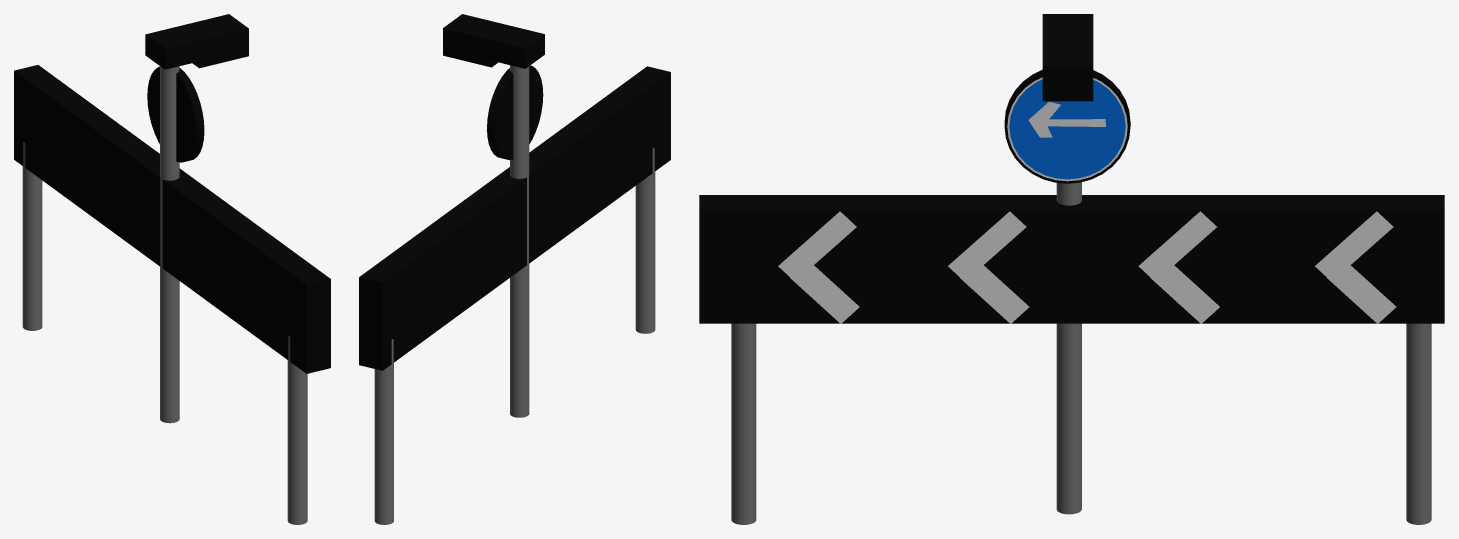
Rendered from go_left_chevron.fbx.
3 renders of one model, left to right at view 1: azimuth 30°, elevation 25°; view 2: azimuth 150°, elevation 25°; view 3: azimuth 270°, elevation 25°, orthographic. The views are drawn at different scales.
Parts seen in each view (by area): view 1: Cube, Cylinder, Cube.001, Cylinder.001, Cylinder.002, Circle; view 2: Cube, Cylinder, Cube.001, Cylinder.001, Cylinder.002, Circle; view 3: Cube, Circle, Cylinder, Cylinder.001, Cylinder.002, Cube.001, Plane, Plane.004, Plane.002, Plane.006, Plane.003, Plane.007 (+2 smaller).
Boxes of the visible parts, x1=… form: Cube: x1=14, y1=65, x2=330, y2=373; Cylinder: x1=160, y1=66, x2=179, y2=423; Cube.001: x1=145, y1=14, x2=248, y2=69; Cylinder.001: x1=287, y1=336, x2=307, y2=524; Cylinder.002: x1=22, y1=142, x2=42, y2=330; Circle: x1=147, y1=66, x2=204, y2=162; Cube: x1=359, y1=66, x2=670, y2=370; Cylinder: x1=510, y1=65, x2=529, y2=417; Cube.001: x1=443, y1=14, x2=544, y2=68; Cylinder.001: x1=635, y1=147, x2=655, y2=333; Cylinder.002: x1=374, y1=339, x2=393, y2=524; Circle: x1=487, y1=65, x2=543, y2=160; Cube: x1=699, y1=195, x2=1444, y2=323; Circle: x1=1004, y1=69, x2=1130, y2=183; Cylinder: x1=1056, y1=182, x2=1081, y2=514; Cylinder.001: x1=731, y1=323, x2=756, y2=524; Cylinder.002: x1=1406, y1=323, x2=1431, y2=524; Cube.001: x1=1042, y1=14, x2=1093, y2=101; Plane: x1=778, y1=211, x2=856, y2=281; Plane.004: x1=1138, y1=211, x2=1216, y2=281; Plane.002: x1=959, y1=260, x2=1029, y2=323; Plane.006: x1=1326, y1=260, x2=1396, y2=323; Plane.003: x1=948, y1=211, x2=1026, y2=281; Plane.007: x1=1315, y1=211, x2=1393, y2=281.
Bounding box in the file's own units: 9.79 × 43.47 × 59.17.
